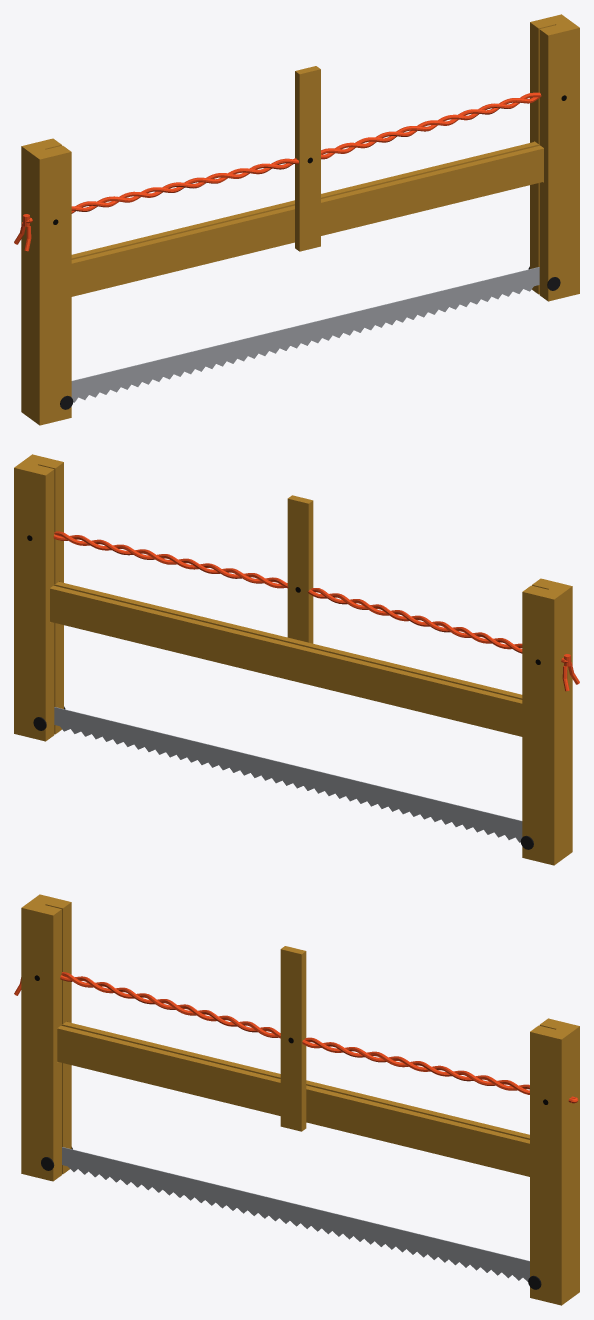
File: bucksaw-open.obj
The picture shows the model from 3 angles, top to bottom: view 1: azimuth 30°, elevation 25°; view 2: azimuth 150°, elevation 25°; view 3: azimuth 330°, elevation 25°; orthographic projection.
Parts seen in each view (by area): view 1: stretcher, upright_L, upright_R, blade, toggle, cord_s6; view 2: stretcher, upright_L, upright_R, blade, cord_s6, toggle; view 3: stretcher, upright_R, upright_L, blade, toggle, cord_s6.
Part boxes in pixels (x1,y1,x2,y2): stretcher: [71, 142, 543, 296]; upright_L: [21, 138, 71, 425]; upright_R: [530, 14, 579, 301]; blade: [71, 267, 539, 402]; toggle: [295, 66, 320, 251]; cord_s6: [14, 92, 541, 251]; stretcher: [50, 582, 522, 736]; upright_L: [522, 578, 572, 865]; upright_R: [14, 454, 63, 741]; blade: [54, 707, 522, 842]; cord_s6: [53, 531, 579, 691]; toggle: [287, 495, 313, 643]; stretcher: [57, 1021, 529, 1176]; upright_R: [530, 1018, 579, 1305]; upright_L: [21, 894, 71, 1181]; blade: [62, 1147, 529, 1281]; toggle: [280, 946, 306, 1131]; cord_s6: [14, 972, 578, 1103].
Bounding box in the file's own units: 26.35 × 13 × 1.62.
